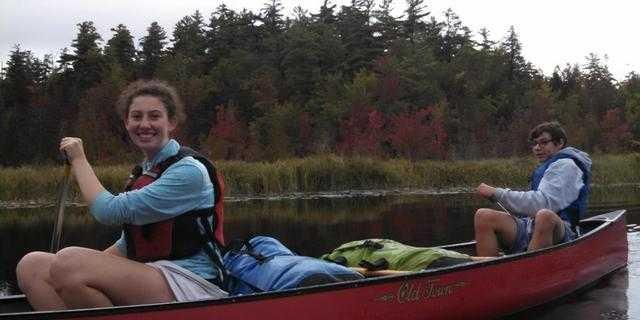kayak: (7, 211, 637, 319)
